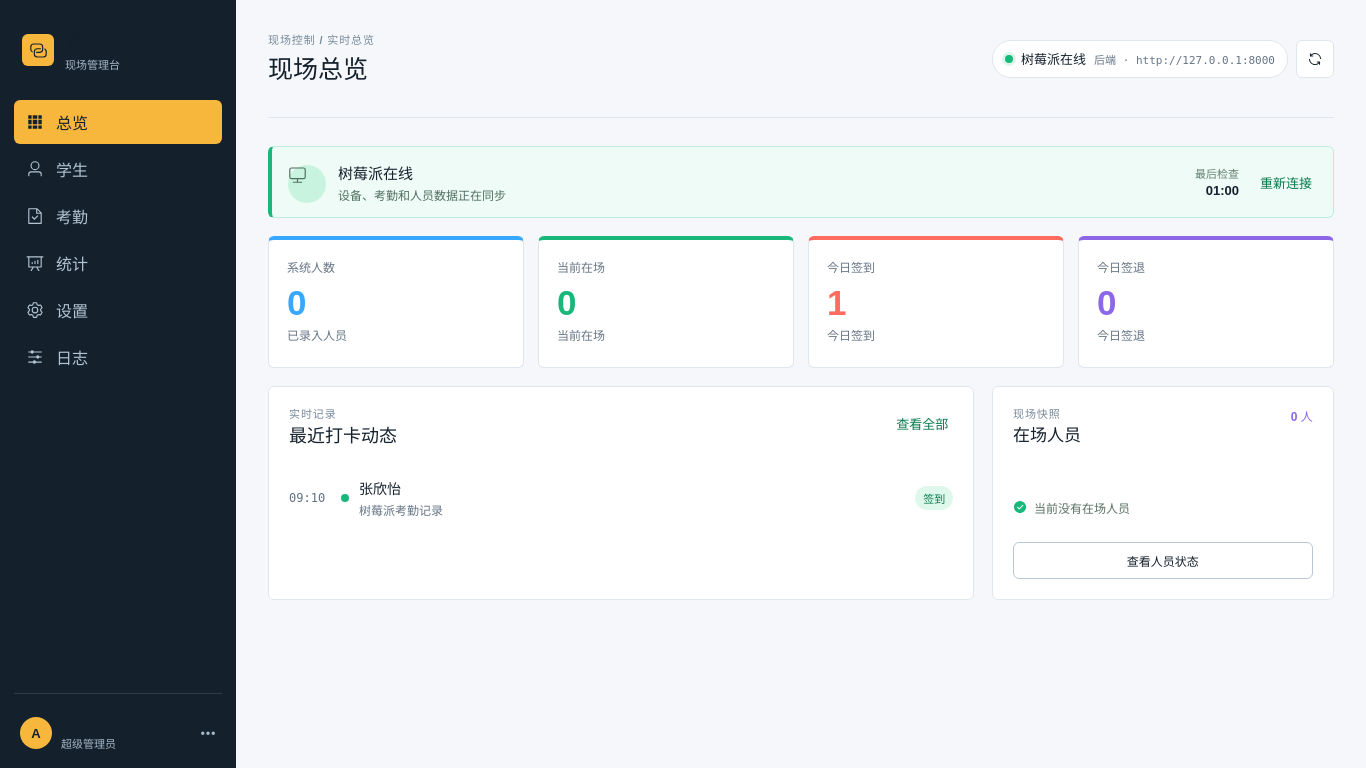
Scenario: HuiQian admin dashboard › shows an unavailable state when an attendance record has no photo
Click the button with class "nav-item" showing "考勤".
click(118, 216)  # box [14,194,222,238]
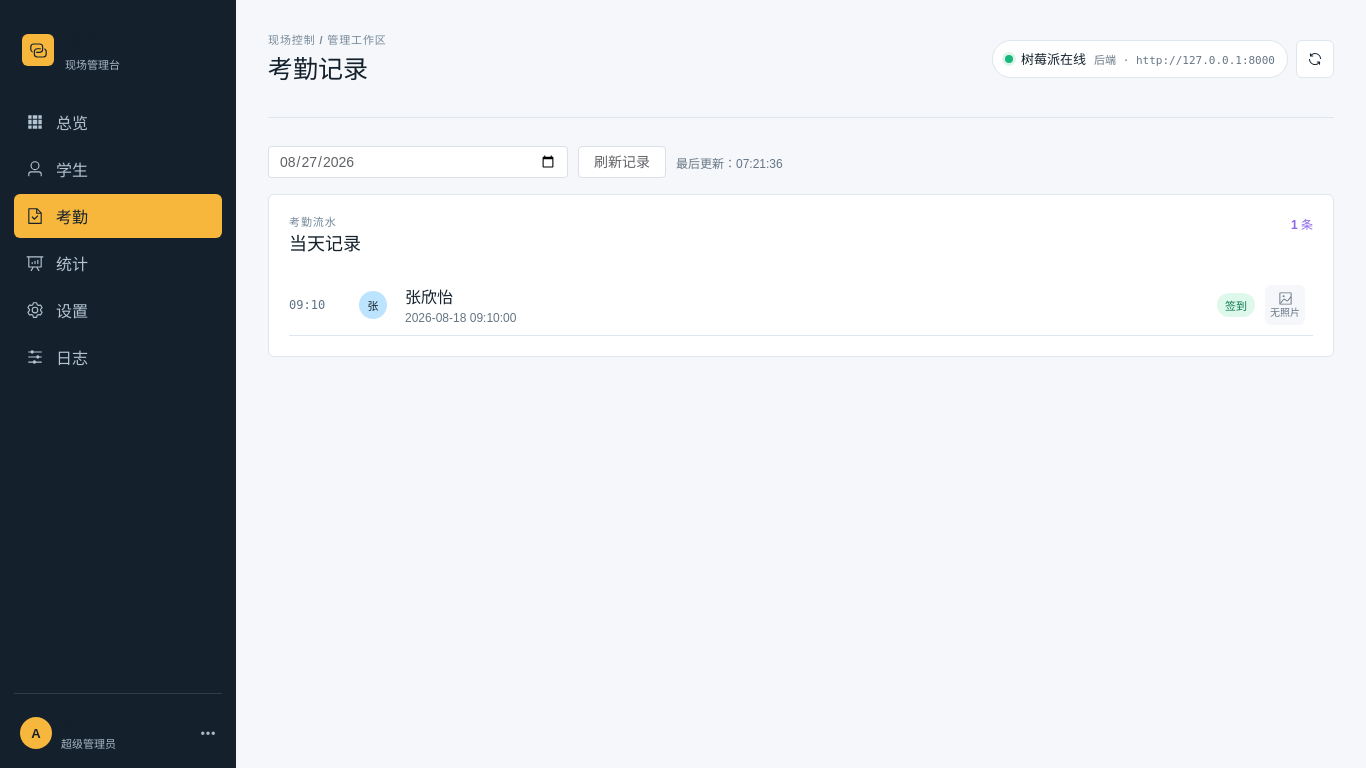
Result: the element with test id "attendance-photo-unavailable" reads "无照片" at [1270,307,1300,318]
